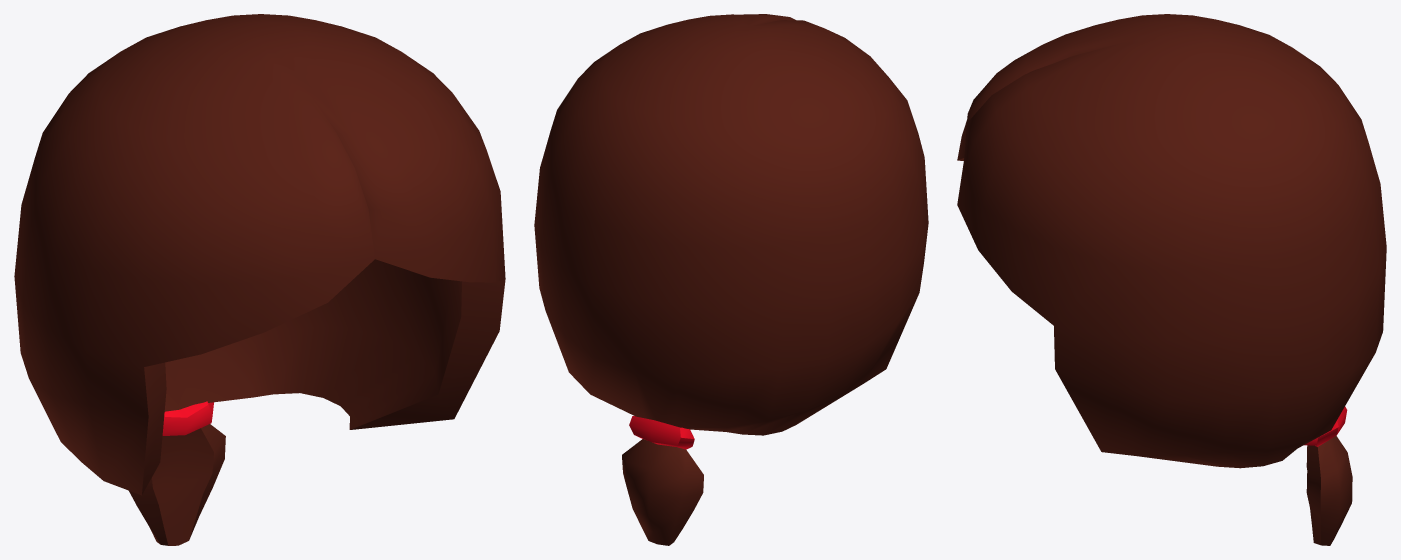
File: mageHairB.obj
3 renders of one model, left to right at view 1: azimuth 30°, elevation 25°; view 2: azimuth 150°, elevation 25°; view 3: azimuth 270°, elevation 25°, orthographic. The views are drawn at different scales.
Visible parts, largest first — view 1: mageHairB_Cube.3534; view 2: mageHairB_Cube.3534; view 3: mageHairB_Cube.3534.
Part boxes in pixels (<box>): mageHairB_Cube.3534: <box>14,14,505,545</box>; mageHairB_Cube.3534: <box>534,14,928,545</box>; mageHairB_Cube.3534: <box>957,14,1386,545</box>.
Size of the model in its own units: 1.11 by 1.42 by 1.09.
